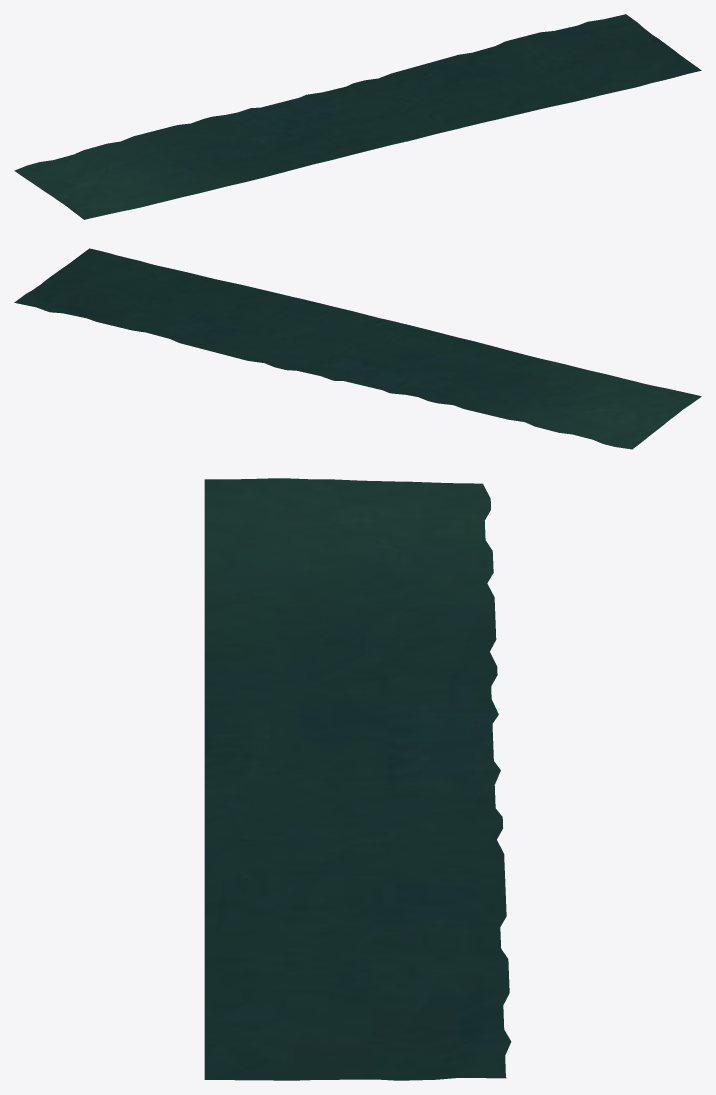
3 renders of one model, top to bottom at view 1: azimuth 30°, elevation 25°; view 2: azimuth 150°, elevation 25°; view 3: azimuth 270°, elevation 25°, orthographic. The views are drawn at different scales.
Size of the model in its own units: 209 by 1.24 by 45.32.
1 material, 1 textured.
